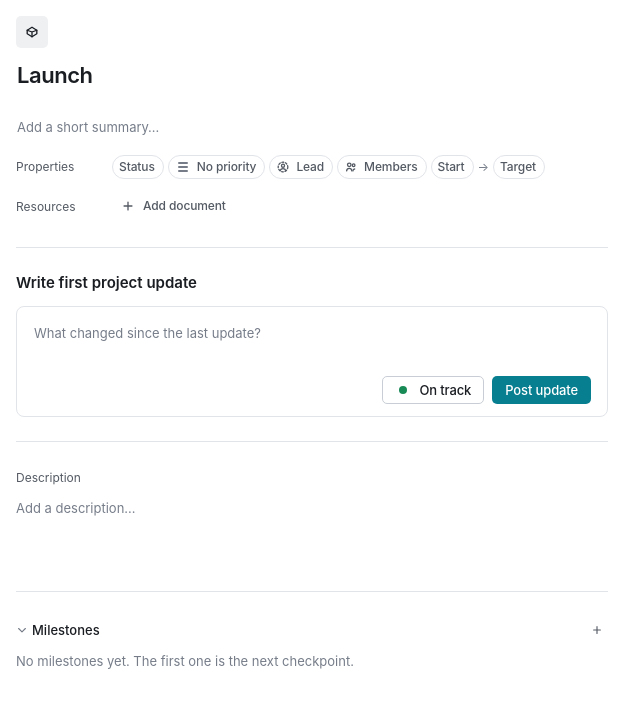
Test case: ProjectOverview › says so when the update was refused
The image size is (625, 712).
Type "Shipped the importer" into the text box labelled "update" at (312, 344), box [33, 319, 591, 368]
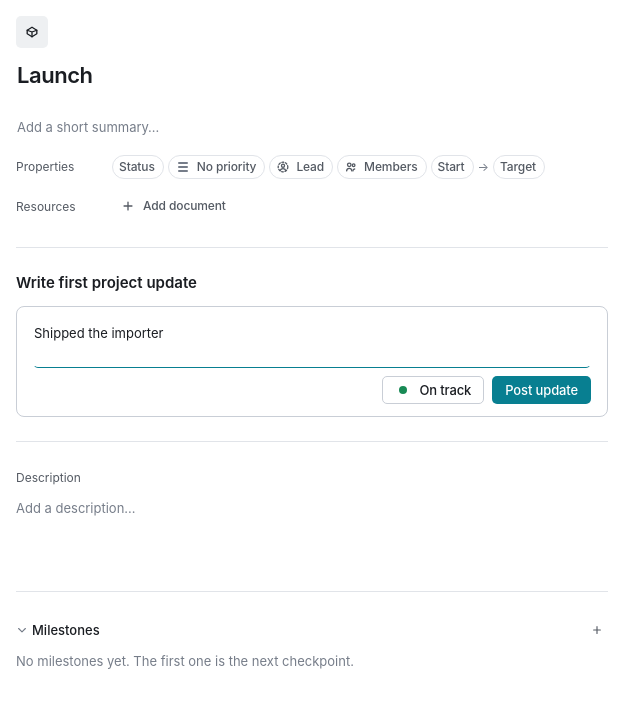
Click the button "Post update" at (542, 390), box [492, 376, 591, 404]
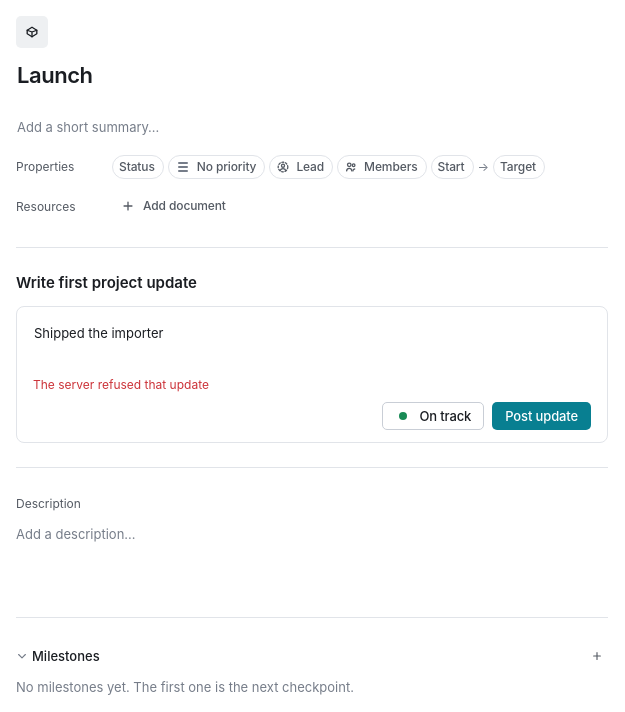
expect the message reads "The server refused that update": met, box [33, 377, 209, 392]
